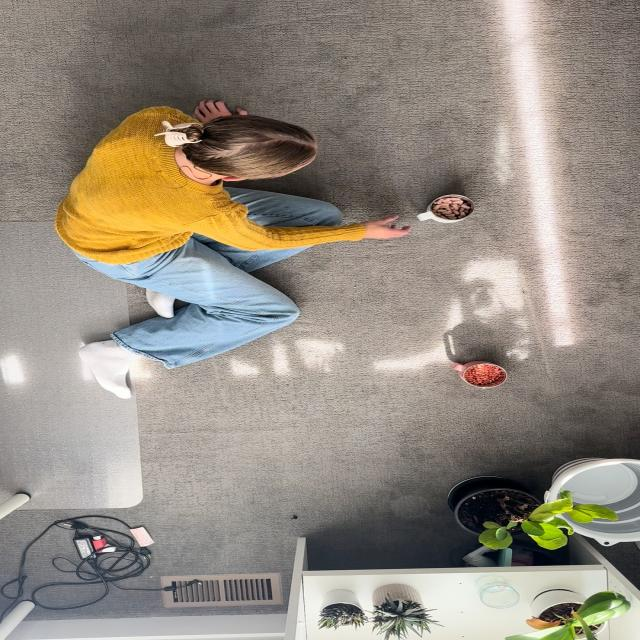IBC: (417, 194, 475, 223), (450, 360, 507, 388)
